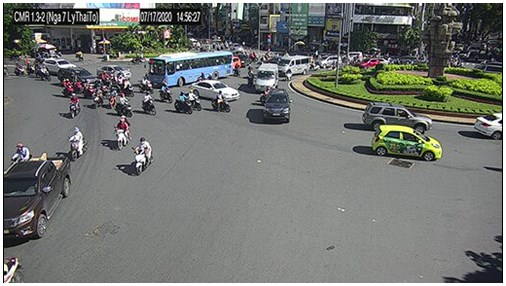xe_ban_tai: (3, 156, 70, 242)
xe_buyt: (149, 50, 233, 87)
xe_hoi: (371, 125, 443, 164), (363, 102, 432, 135), (192, 81, 239, 102), (264, 89, 291, 124), (475, 113, 502, 141), (41, 58, 76, 73), (317, 54, 340, 68), (357, 57, 379, 69)
xe_khach: (253, 64, 278, 92), (277, 56, 310, 77)
xe_may: (133, 137, 153, 176), (69, 126, 88, 162), (114, 114, 132, 151), (169, 92, 193, 115), (211, 91, 232, 115), (10, 142, 31, 165), (116, 93, 133, 117), (142, 90, 157, 116), (188, 89, 203, 112), (137, 76, 155, 94), (69, 93, 81, 119), (159, 83, 173, 104), (91, 86, 103, 110), (60, 78, 74, 98), (126, 52, 145, 66), (38, 63, 51, 82), (12, 61, 26, 77), (100, 70, 113, 87), (26, 59, 37, 79), (82, 79, 93, 99), (107, 85, 116, 109), (122, 76, 133, 94), (284, 66, 294, 83), (75, 48, 86, 62), (233, 64, 242, 80), (246, 71, 254, 89)
